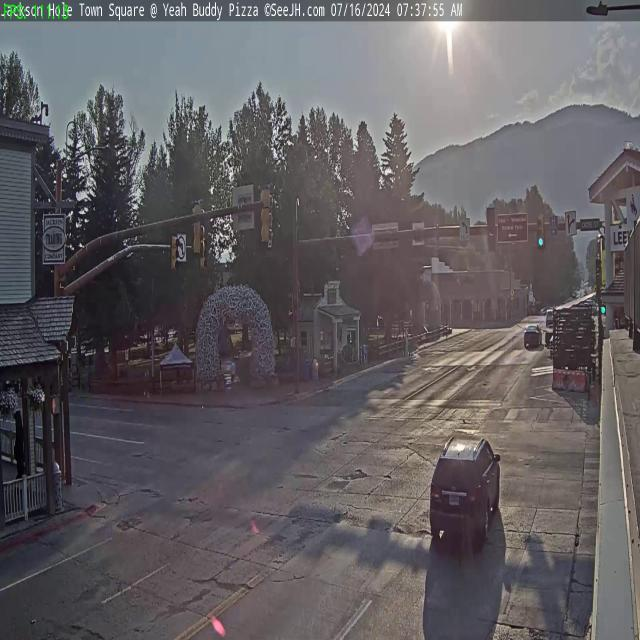sedan: (522, 320, 542, 350)
suv: (426, 428, 505, 569)
traffic light: (260, 183, 272, 244), (191, 199, 203, 256), (486, 207, 496, 252), (171, 234, 179, 271), (537, 214, 545, 248)
